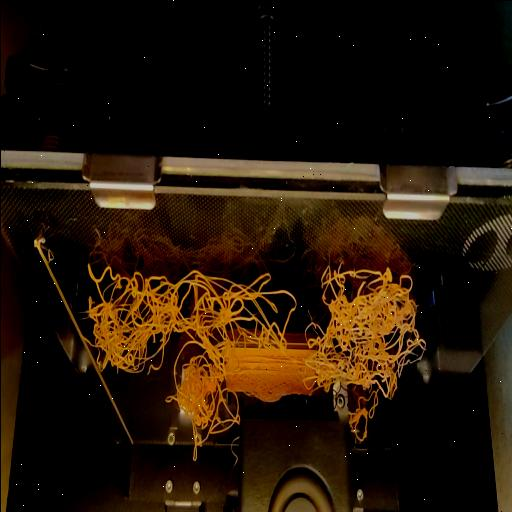spaghetti: (80, 260, 428, 394), (165, 390, 238, 472), (349, 390, 378, 444)
